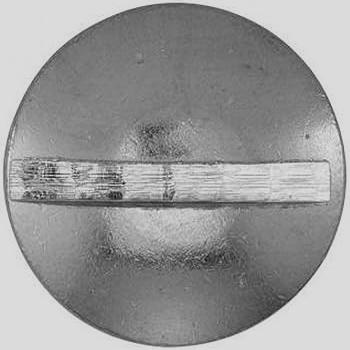slotted: (4, 3, 346, 347)
